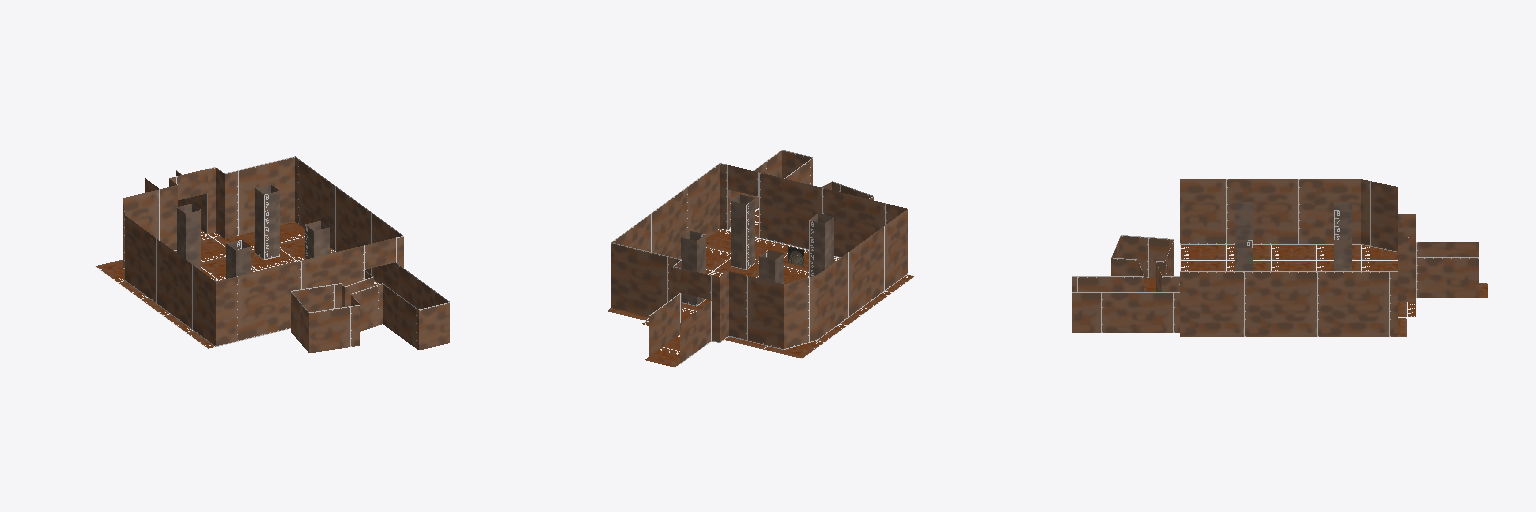
3 views of the same model, side by side, from view 1: azimuth 30°, elevation 25°; view 2: azimuth 150°, elevation 25°; view 3: azimuth 270°, elevation 25° (orthographic).
Bounding box in the file's own units: 25 × 8 × 46.
4 materials, 4 textured.